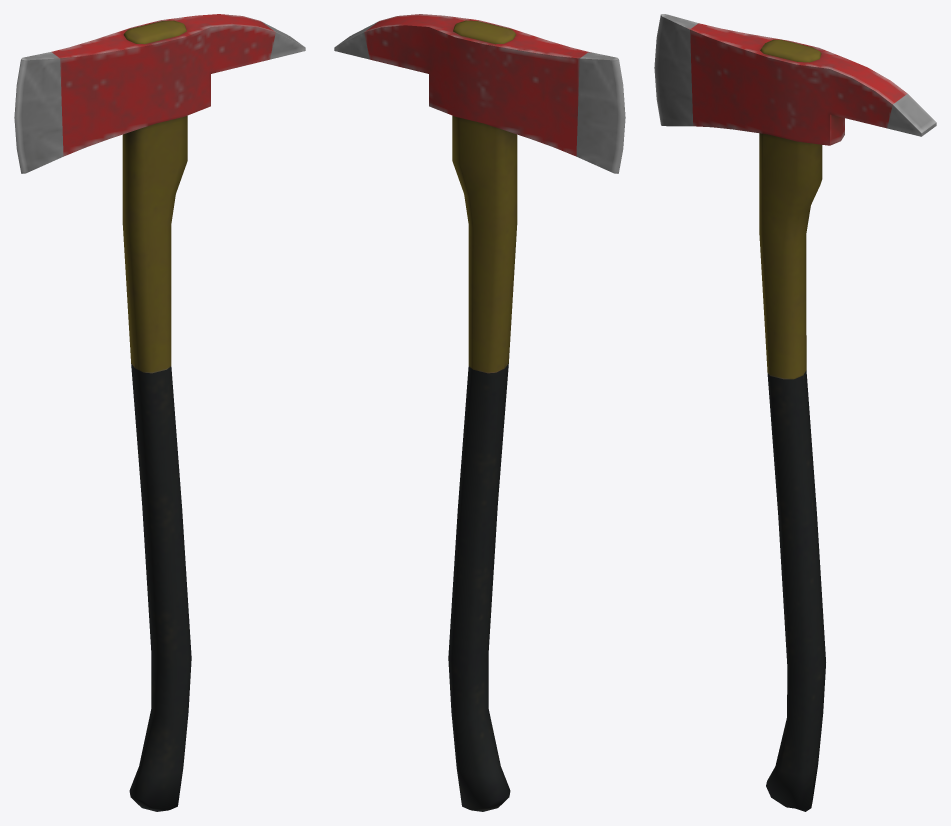
Rendered from fire_axe.obj.
3 renders of one model, left to right at view 1: azimuth 30°, elevation 25°; view 2: azimuth 150°, elevation 25°; view 3: azimuth 330°, elevation 25°, orthographic. The views are drawn at different scales.
Parts seen in each view (by area): view 1: Axe_grip, Axe_blade; view 2: Axe_grip, Axe_blade; view 3: Axe_grip, Axe_blade.
Part boxes in pixels (<box>): Axe_grip: <box>122,20,191,811</box>; Axe_blade: <box>14,14,305,173</box>; Axe_grip: <box>448,20,517,811</box>; Axe_blade: <box>334,14,625,173</box>; Axe_grip: <box>759,39,825,811</box>; Axe_blade: <box>654,14,936,145</box>.
Size of the model in its own units: 0.3978 by 1.06 by 0.0574.
